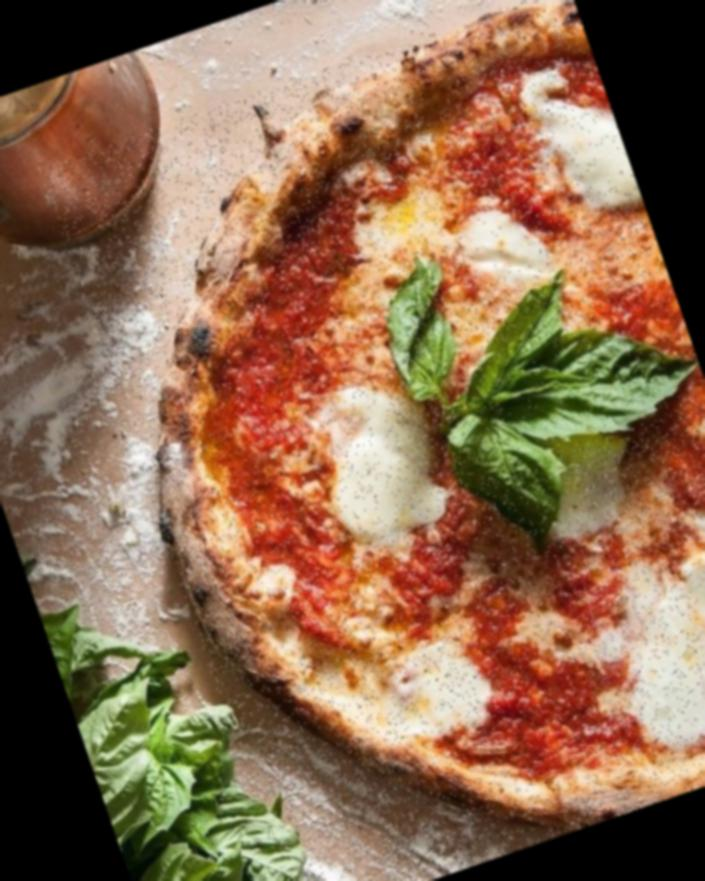Basil: (487, 300, 705, 465), (438, 390, 585, 568), (424, 267, 598, 414), (366, 254, 478, 408)
Cheese: (316, 386, 433, 539), (610, 589, 705, 720), (552, 106, 642, 217), (374, 652, 474, 735), (464, 210, 535, 283), (366, 198, 444, 263), (676, 520, 705, 635)
Pizza: (36, 0, 705, 881)
